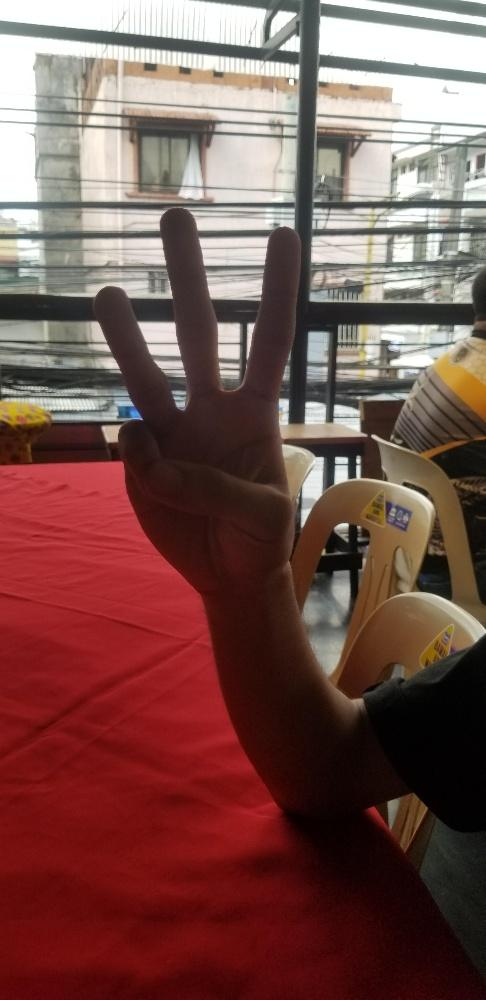w: (89, 200, 303, 593)
